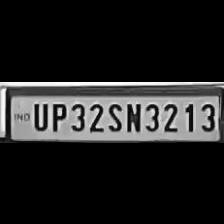1: (180, 99, 196, 131)
2: (159, 100, 179, 132), (86, 99, 104, 131)
3: (68, 98, 86, 130), (142, 99, 160, 131), (198, 99, 216, 131)
N: (123, 99, 141, 131)
P: (47, 98, 66, 130)
S: (104, 99, 122, 131)
U: (28, 98, 48, 130)
